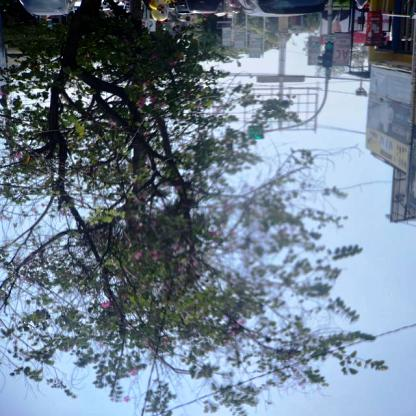Traffic Light -Green-: (323, 40, 332, 66)
